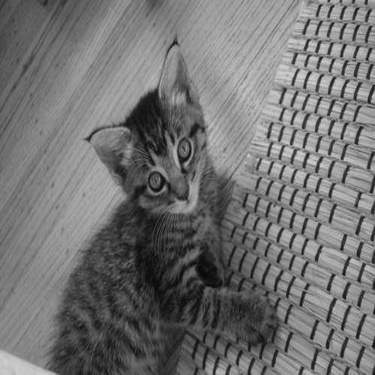cat: (38, 37, 273, 360)
